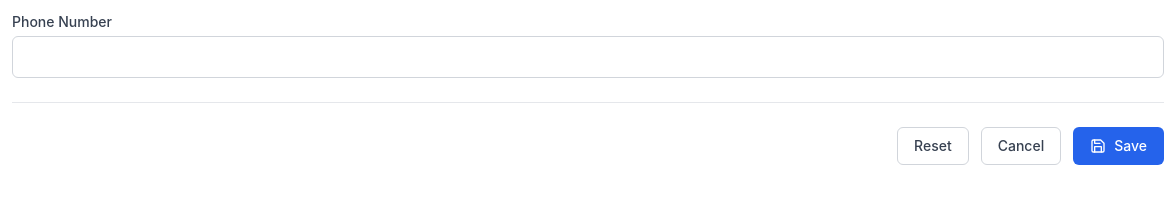
SimpleForm › handles pattern validation
The image size is (1176, 206).
Type "invalid-phone" into the field labelled "Phone Number".
click(588, 57); type("invalid-phone")  # box [12,36,1164,78]
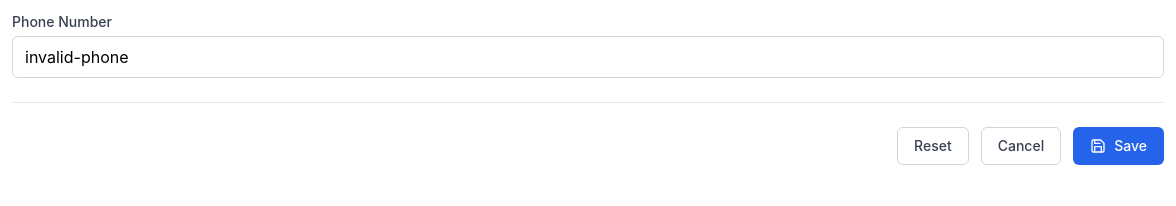
Leave the field labelled "Phone Number", box [12,36,1164,78]
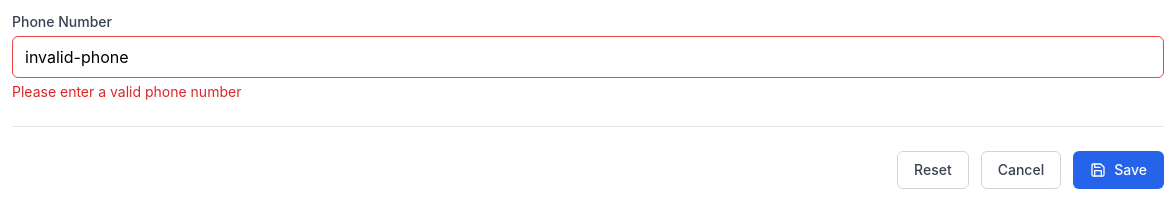
Expected: the text "Please enter a valid phone number" is shown, [12,83,241,100]
